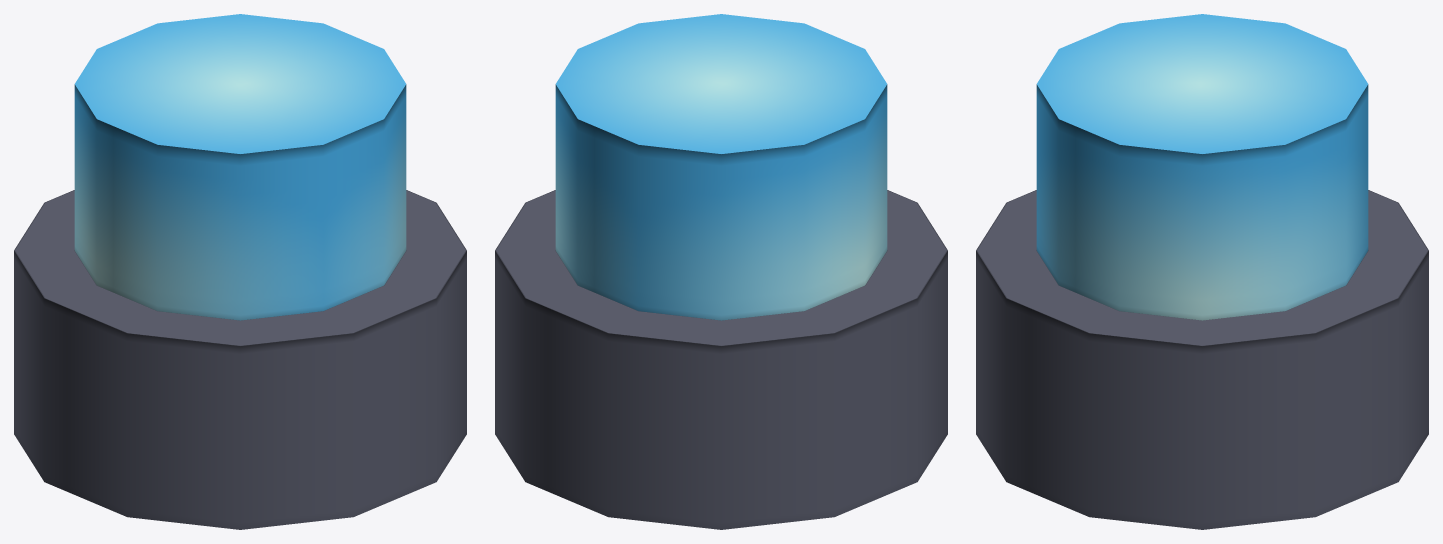
Rendered from Button_Circular_Blue.FBX.
The picture shows the model from 3 angles, left to right: view 1: azimuth 30°, elevation 25°; view 2: azimuth 150°, elevation 25°; view 3: azimuth 270°, elevation 25°; orthographic projection.
Parts seen in each view (by area): view 1: Button_Circular_Blue, Push_Me; view 2: Button_Circular_Blue, Push_Me; view 3: Button_Circular_Blue, Push_Me.
Part boxes in pixels (bbox=[...]): Button_Circular_Blue: bbox=[14, 190, 466, 529]; Push_Me: bbox=[74, 14, 406, 320]; Button_Circular_Blue: bbox=[495, 190, 947, 529]; Push_Me: bbox=[555, 14, 887, 320]; Button_Circular_Blue: bbox=[976, 190, 1428, 529]; Push_Me: bbox=[1036, 14, 1368, 320].
Bounding box in the file's own units: 0.0863 × 0.0736 × 0.0863.
